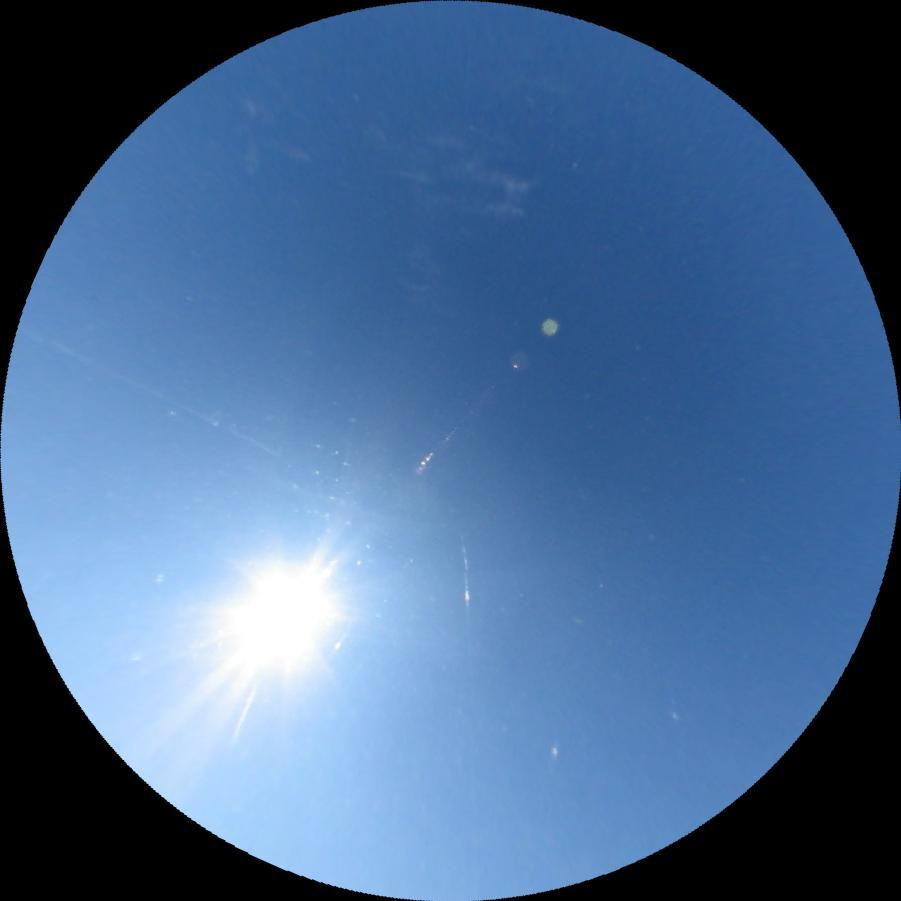parasite: (459, 533, 473, 623)
sun: (211, 545, 344, 686)
